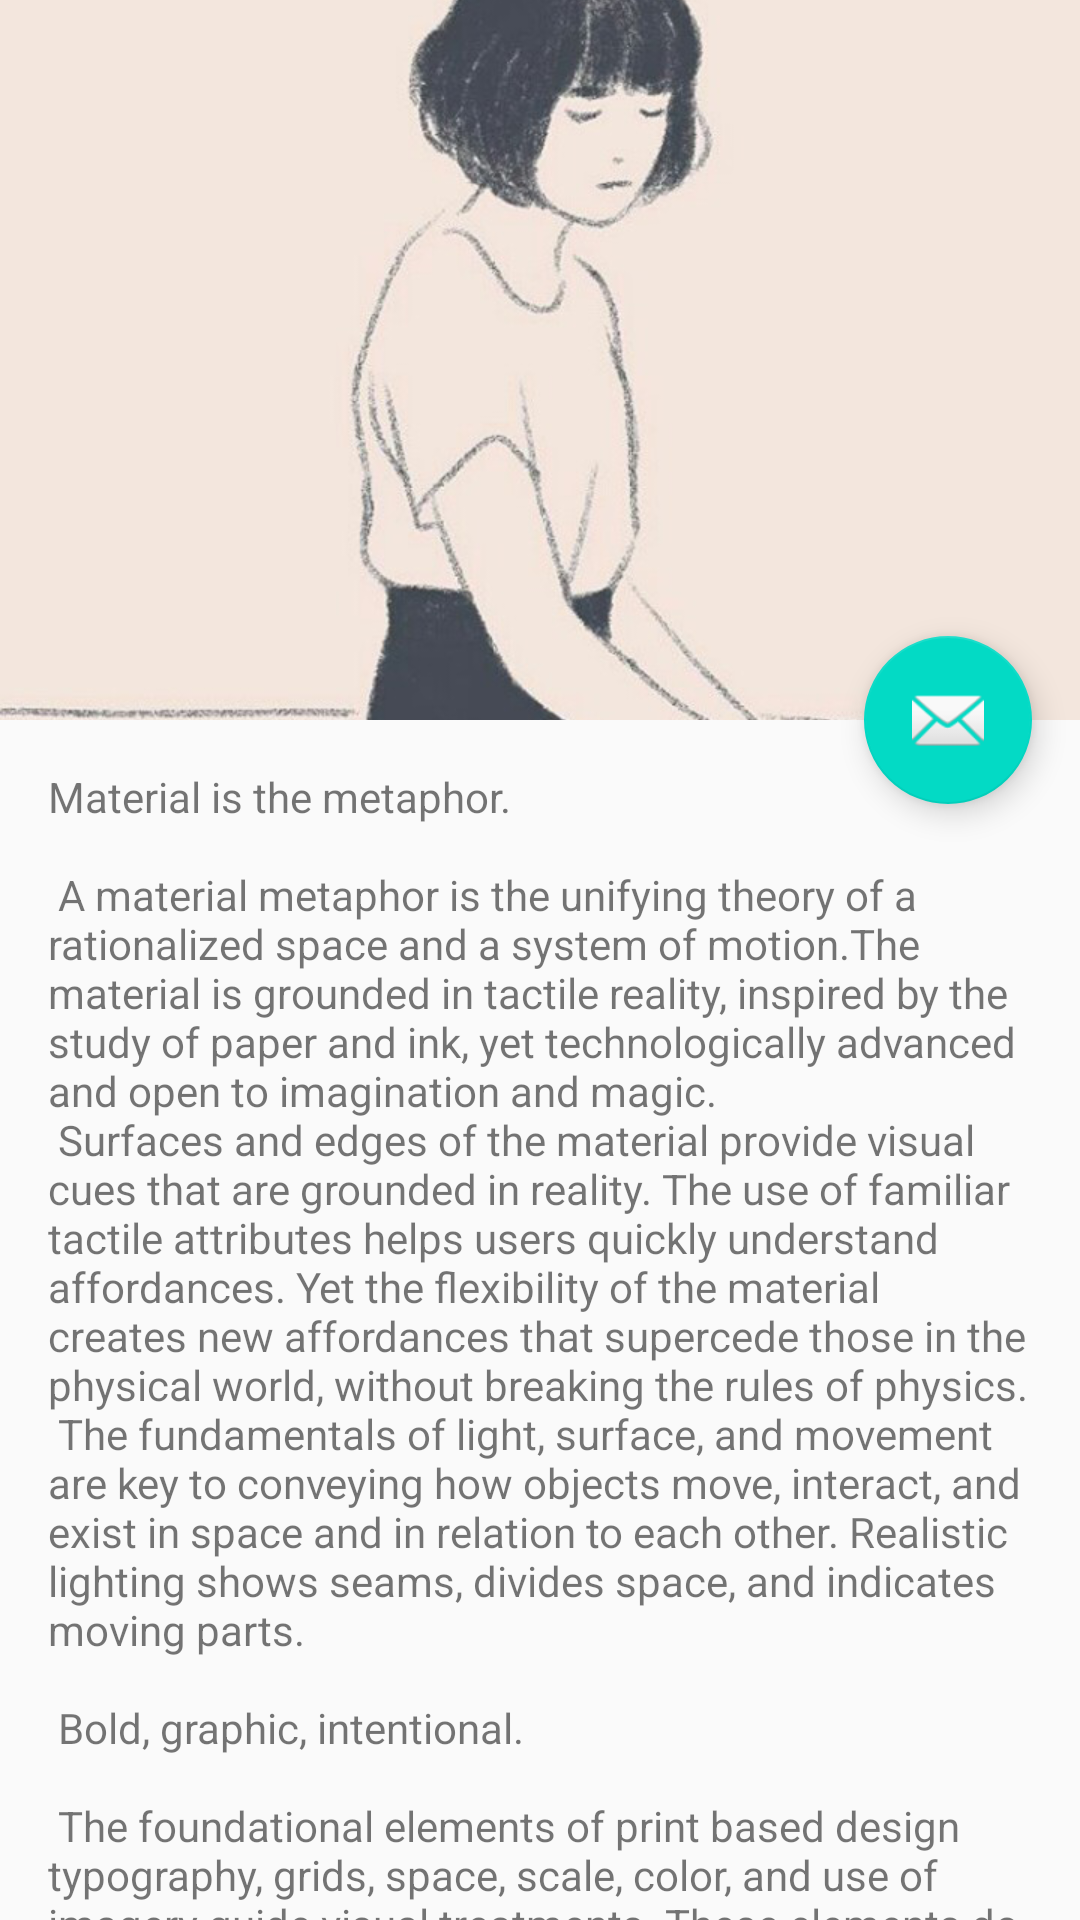

Icons on this 1080w x 1920h Android screen, each with the point to tap as (x,y):
email: (948,720)
